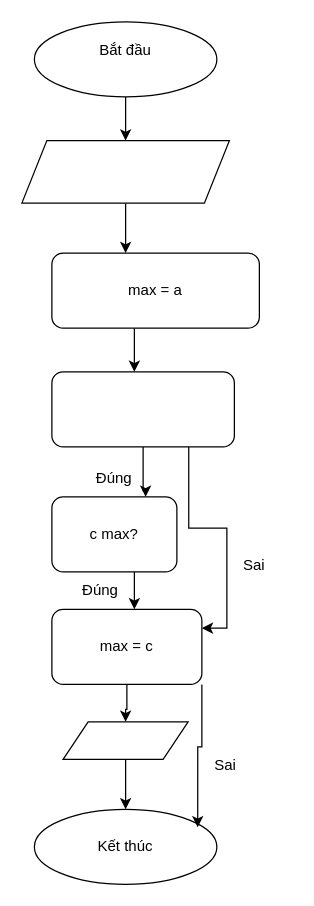
This 314x906 diagram has some shape labels left out. Here are the shapes that lost their labels. From the top down, the centre of each, then its label:
point 125,171: Nhập a, b,c
point 142,409: b max?
point 125,740: Xuất max
